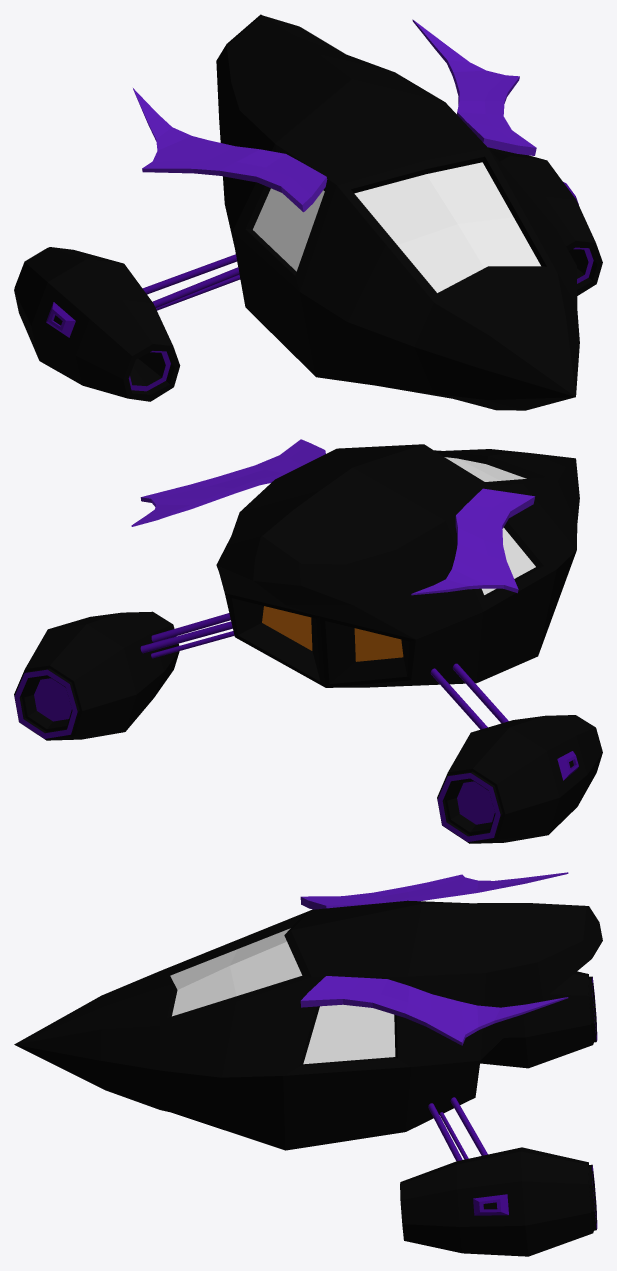
3 views of the same model, one above another, from view 1: azimuth 30°, elevation 25°; view 2: azimuth 150°, elevation 25°; view 3: azimuth 270°, elevation 25° (orthographic). The views are drawn at different scales.
Parts seen in each view (by area): view 1: Body, RigtWings, LeftWings; view 2: Body, RigtWings, LeftWings; view 3: Body, LeftWings, RigtWings.
Part boxes in pixels (bbox=[...]): Body: bbox=[14, 14, 602, 410]; RigtWings: bbox=[133, 88, 327, 212]; LeftWings: bbox=[412, 19, 536, 155]; Body: bbox=[14, 444, 602, 843]; RigtWings: bbox=[411, 488, 535, 595]; LeftWings: bbox=[131, 439, 325, 526]; Body: bbox=[14, 900, 602, 1256]; LeftWings: bbox=[300, 976, 568, 1045]; RigtWings: bbox=[300, 872, 568, 909].
Size of the model in its own units: 688 by 349 by 728.
